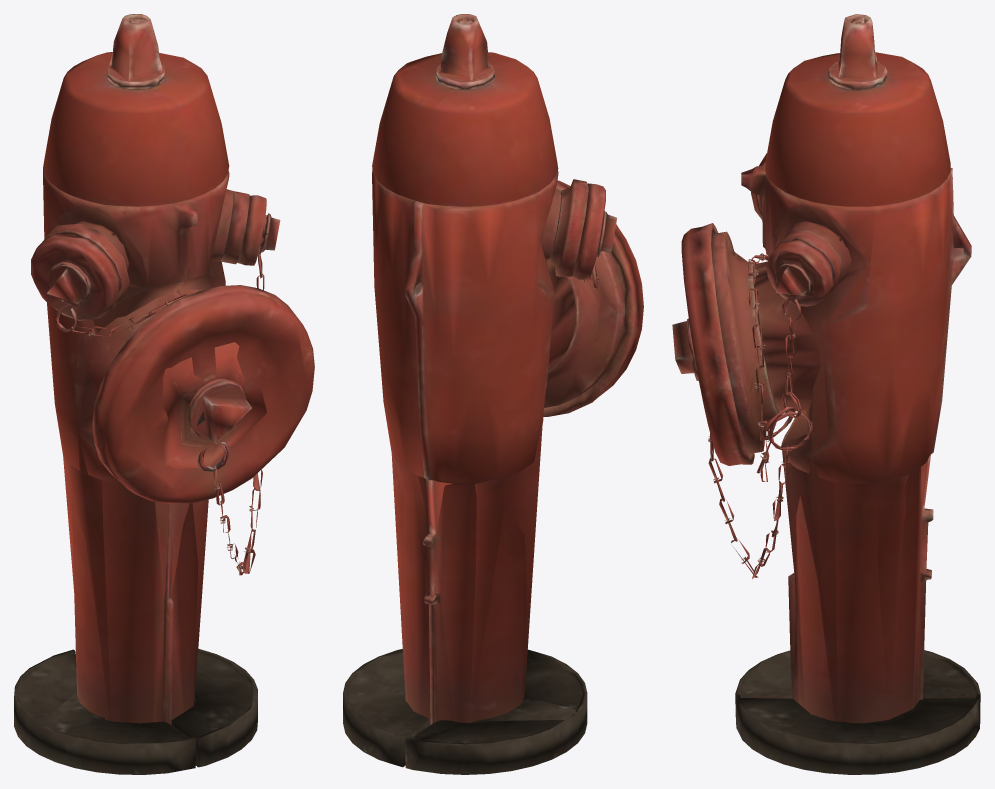
Rendered from fire_hydrant.glb.
The picture shows the model from 3 angles, left to right: view 1: azimuth 30°, elevation 25°; view 2: azimuth 150°, elevation 25°; view 3: azimuth 270°, elevation 25°; orthographic projection.
Parts seen in each view (by area): view 1: fire_hydrant, fire_hydrant_lo; view 2: fire_hydrant, fire_hydrant_lo; view 3: fire_hydrant, fire_hydrant_lo.
Boxes of the visible parts, x1,y1,x2,y2 form: fire_hydrant: [14, 14, 314, 774]; fire_hydrant_lo: [38, 18, 279, 730]; fire_hydrant: [343, 14, 643, 774]; fire_hydrant_lo: [391, 16, 614, 723]; fire_hydrant: [672, 14, 980, 774]; fire_hydrant_lo: [674, 16, 971, 721].
Bounding box in the file's own units: 0.2745 × 0.7994 × 0.3173.
Materials: 2 (2 with a texture image).
